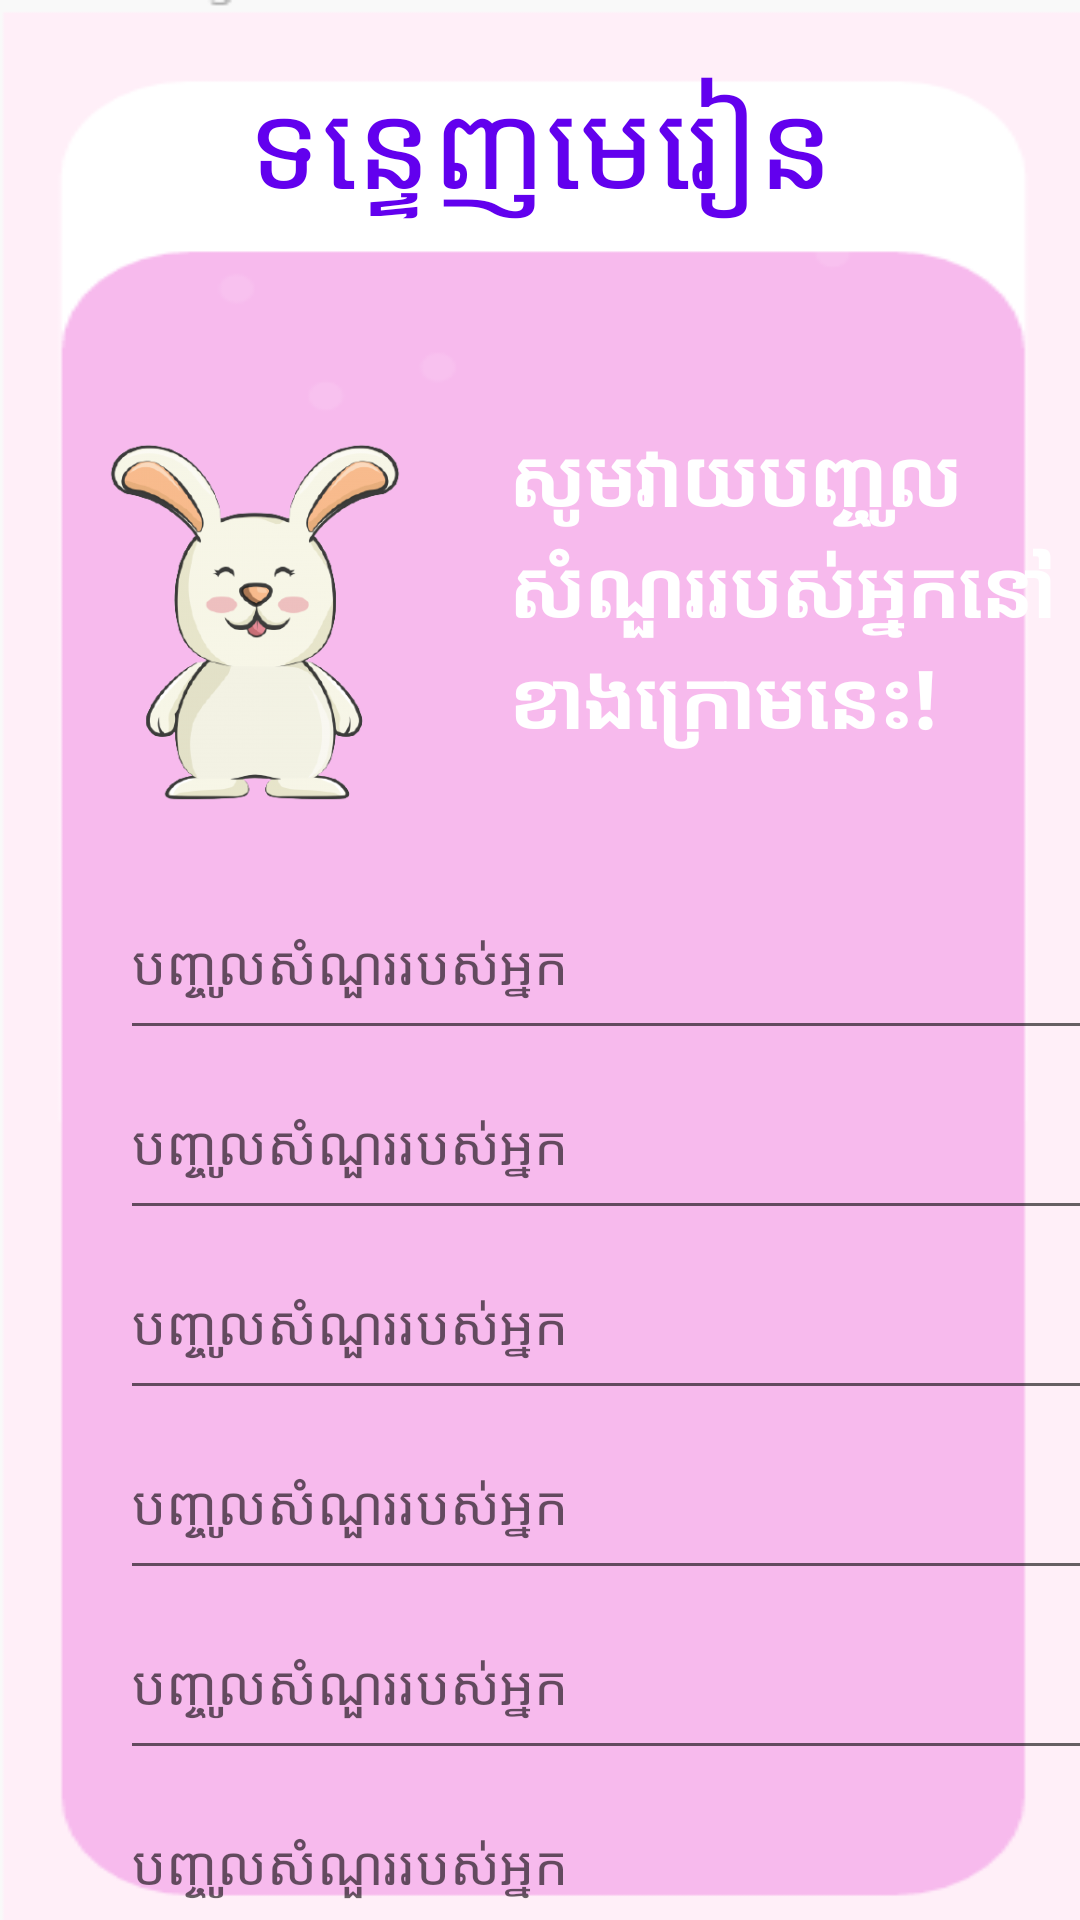

Named icons in this screenshot (1080px x 1920px) and their bounding boxes, (x1, y1, x2, y2):
rabit: (111, 445, 399, 800)
